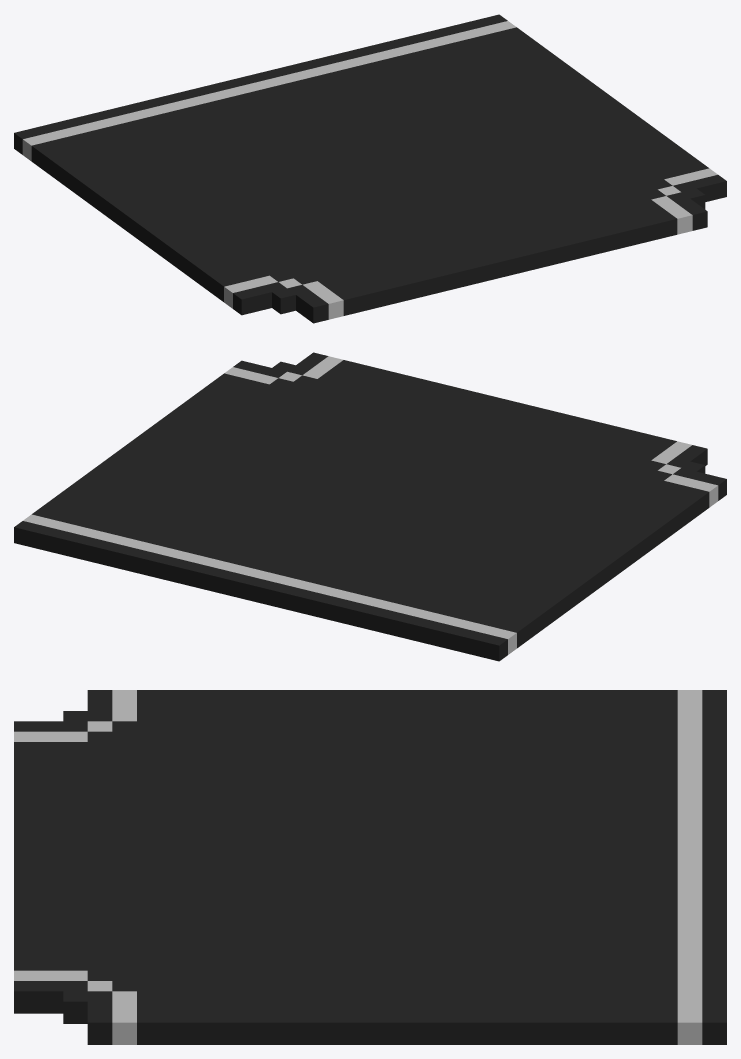
Rendered from road-rounded-3-way-crossing-2.gltf.
The picture shows the model from 3 angles, top to bottom: view 1: azimuth 30°, elevation 25°; view 2: azimuth 150°, elevation 25°; view 3: azimuth 270°, elevation 25°; orthographic projection. The views are drawn at different scales.
Parts seen in each view (by area): view 1: road-rounded-3-way-crossing-2_model; view 2: road-rounded-3-way-crossing-2_model; view 3: road-rounded-3-way-crossing-2_model.
Boxes of the visible parts, left/top/right/bottom form: road-rounded-3-way-crossing-2_model: left=14, top=14, right=726, bottom=323; road-rounded-3-way-crossing-2_model: left=14, top=352, right=726, bottom=661; road-rounded-3-way-crossing-2_model: left=14, top=690, right=726, bottom=1044.
Bounding box in the file's own units: 3.2 × 0.1 × 2.9.
Materials: 1 (1 with a texture image).
